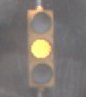Yellow: (20, 8, 59, 93)
